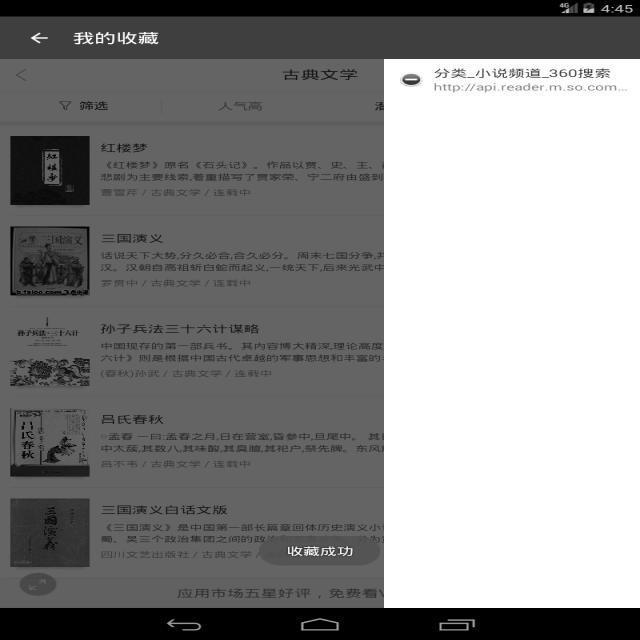ImageButton: (5, 62, 40, 87), (21, 24, 57, 47)
ImageView: (11, 227, 87, 293), (12, 137, 86, 203), (13, 500, 87, 566), (14, 412, 84, 474), (18, 329, 84, 387)
TextView: (91, 409, 396, 472), (100, 231, 387, 295), (97, 320, 386, 380), (100, 140, 383, 199), (102, 502, 244, 558), (425, 60, 637, 96), (171, 583, 388, 603), (69, 28, 174, 50), (280, 539, 370, 560), (49, 96, 118, 120), (274, 64, 362, 82), (220, 98, 274, 114)
